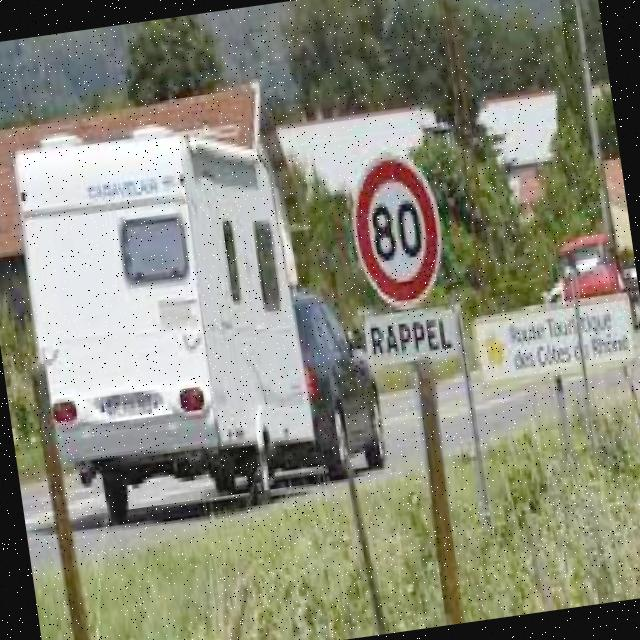Ograniczenie predkosci do 80: (344, 147, 450, 310)
